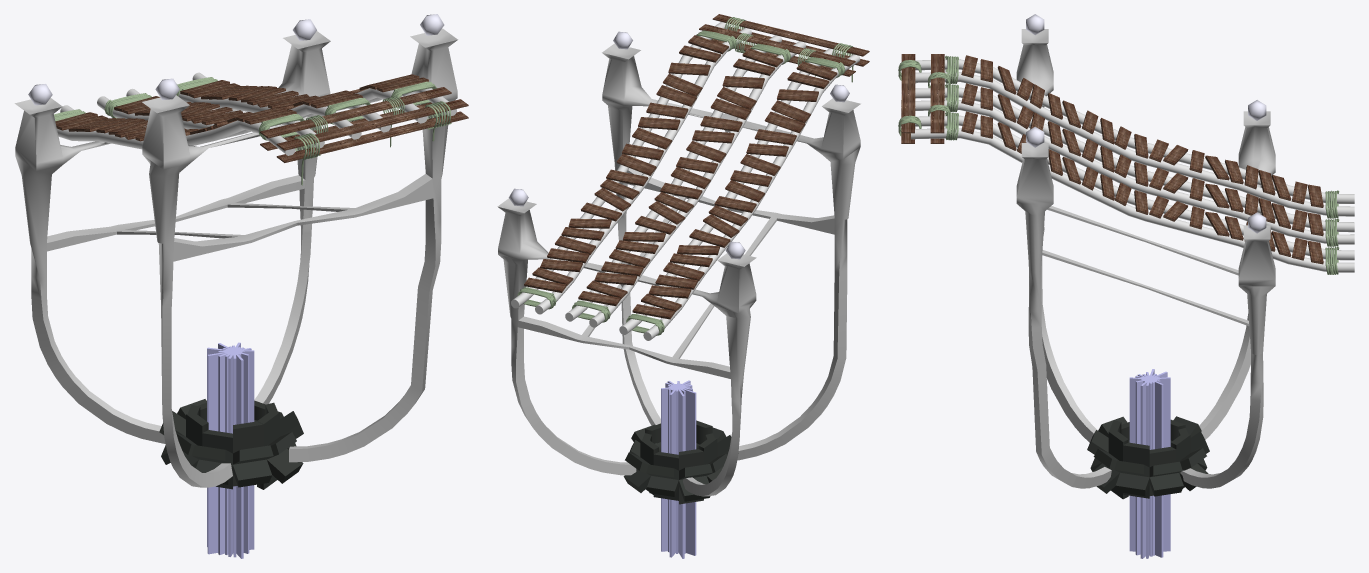
File: 3_bridge_down.fbx
The picture shows the model from 3 angles, left to right: view 1: azimuth 30°, elevation 25°; view 2: azimuth 150°, elevation 25°; view 3: azimuth 270°, elevation 25°; orthographic projection. The views are drawn at different scales.
Visible parts, largest first — view 1: 3_straightup_base, gravityring, 3_straightup_LaR, 3_straightup_LaL, 3_straightup_LaM, 3_straightdown_verschlag02, 3_straightup_verschlag, 3_straightdown_verschlag02_ropes, 3_straightup_LaM_ropes, 3_straightup_LaL_ropes, 3_straightup_LaR_ropes; view 2: 3_straightup_base, 3_straightup_LaR, 3_straightup_LaM, 3_straightup_LaL, gravityring, 3_straightdown_verschlag02, 3_straightup_verschlag, 3_straightup_LaM_ropes, 3_straightup_LaR_ropes, 3_straightup_LaL_ropes; view 3: 3_straightup_base, gravityring, 3_straightup_LaR, 3_straightup_LaM, 3_straightup_LaL, 3_straightdown_verschlag02, 3_straightup_verschlag, 3_straightup_LaL_ropes, 3_straightup_LaM_ropes, 3_straightup_LaR_ropes.
Boxes of the visible parts, <box> form: 3_straightup_base: <box>14,14,457,487</box>; gravityring: <box>159,342,303,558</box>; 3_straightup_LaR: <box>55,105,324,155</box>; 3_straightup_LaL: <box>178,72,456,123</box>; 3_straightup_LaM: <box>97,88,390,139</box>; 3_straightdown_verschlag02: <box>276,99,468,162</box>; 3_straightup_verschlag: <box>260,87,451,150</box>; 3_straightdown_verschlag02_ropes: <box>294,101,450,185</box>; 3_straightup_LaM_ropes: <box>104,93,370,124</box>; 3_straightup_LaL_ropes: <box>176,77,436,108</box>; 3_straightup_LaR_ropes: <box>54,109,304,140</box>; 3_straightup_base: <box>497,31,860,496</box>; 3_straightup_LaR: <box>619,48,860,340</box>; 3_straightup_LaM: <box>565,35,805,327</box>; 3_straightup_LaL: <box>511,22,751,314</box>; gravityring: <box>623,380,738,558</box>; 3_straightdown_verschlag02: <box>712,14,869,66</box>; 3_straightup_verschlag: <box>699,24,855,76</box>; 3_straightup_LaM_ropes: <box>571,43,790,322</box>; 3_straightup_LaR_ropes: <box>626,57,845,335</box>; 3_straightup_LaL_ropes: <box>517,30,736,309</box>; 3_straightup_base: <box>1016,14,1275,488</box>; gravityring: <box>1087,369,1209,558</box>; 3_straightup_LaR: <box>915,55,1354,216</box>; 3_straightup_LaM: <box>915,83,1354,244</box>; 3_straightup_LaL: <box>911,111,1354,272</box>; 3_straightdown_verschlag02: <box>901,54,915,143</box>; 3_straightup_verschlag: <box>930,54,944,143</box>; 3_straightup_LaL_ropes: <box>945,112,1339,274</box>; 3_straightup_LaM_ropes: <box>945,84,1339,246</box>; 3_straightup_LaR_ropes: <box>945,55,1339,218</box>.
Size of the model in its own units: 82 by 143 by 123.
Materials: 7 (1 with a texture image).
